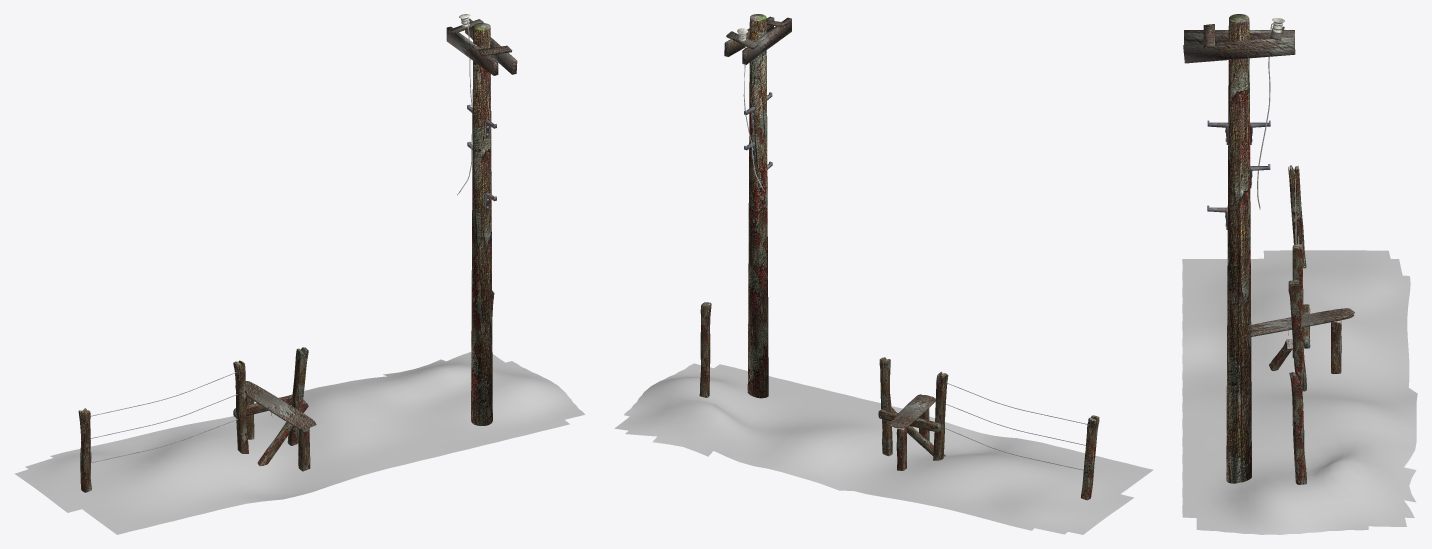
Rendered from StyAndTelegraphPole01.fbx.
3 renders of one model, left to right at view 1: azimuth 30°, elevation 25°; view 2: azimuth 150°, elevation 25°; view 3: azimuth 270°, elevation 25°, orthographic. The views are drawn at different scales.
Visible parts, largest first — view 1: default; view 2: default; view 3: default.
Boxes of the visible parts, x1,y1,x2,y2 form: default: (14,14,584,534); default: (614,14,1153,534); default: (1182,14,1417,534).
Size of the model in its own units: 1560 by 1222 by 546.
